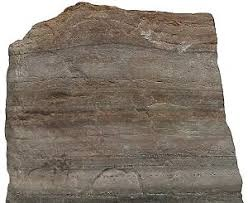obstacle: (0, 3, 241, 201)
